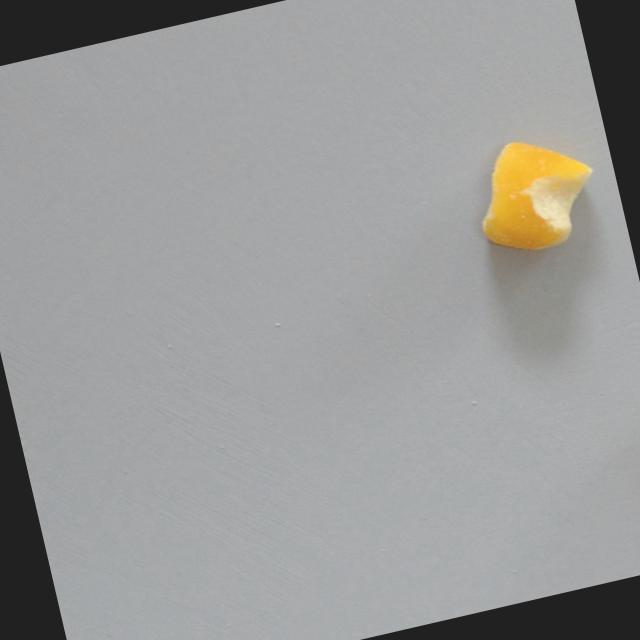no_canjicado: (464, 125, 609, 262)
